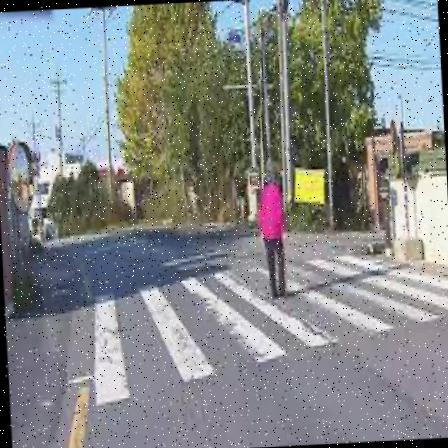silver: (256, 160, 291, 300)
